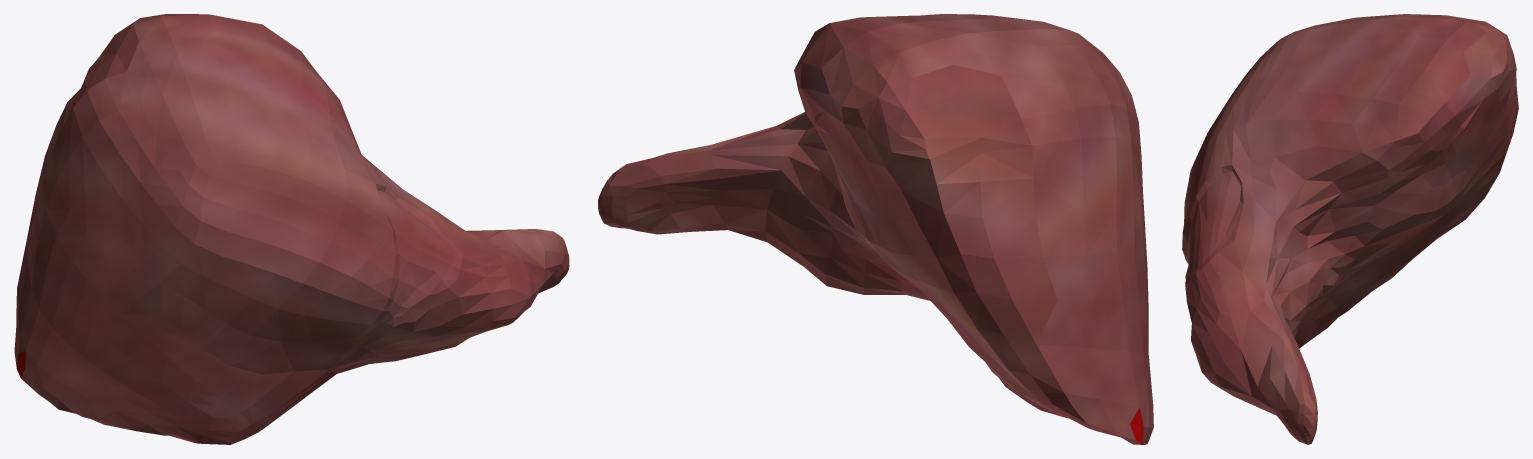
File: liver.obj
The picture shows the model from 3 angles, left to right: view 1: azimuth 30°, elevation 25°; view 2: azimuth 150°, elevation 25°; view 3: azimuth 270°, elevation 25°; orthographic projection. The views are drawn at different scales.
Visible parts, largest first — view 1: liver_liver.004; view 2: liver_liver.004; view 3: liver_liver.004.
Part boxes in pixels (x1,y1,x2,y2): liver_liver.004: (14, 14, 569, 444); liver_liver.004: (598, 14, 1153, 444); liver_liver.004: (1182, 14, 1518, 444).
Size of the model in its own units: 14.82 by 10.08 by 8.93.
